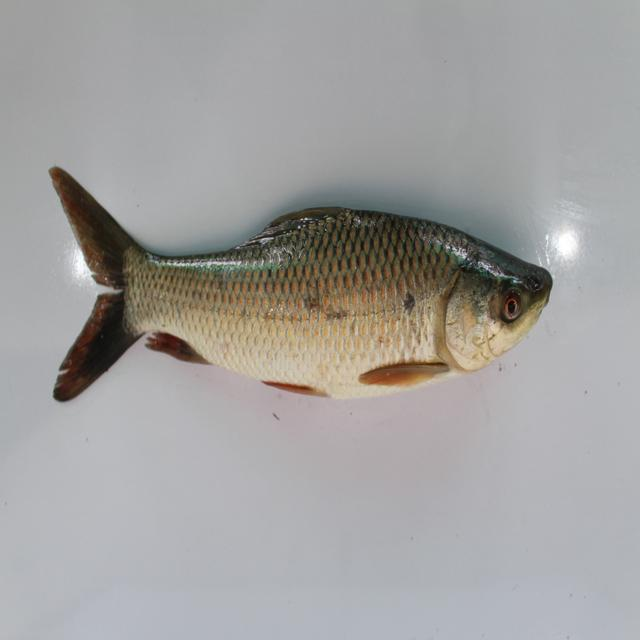Rohu: (37, 142, 562, 416)
